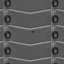dust: (31, 30, 34, 33)
